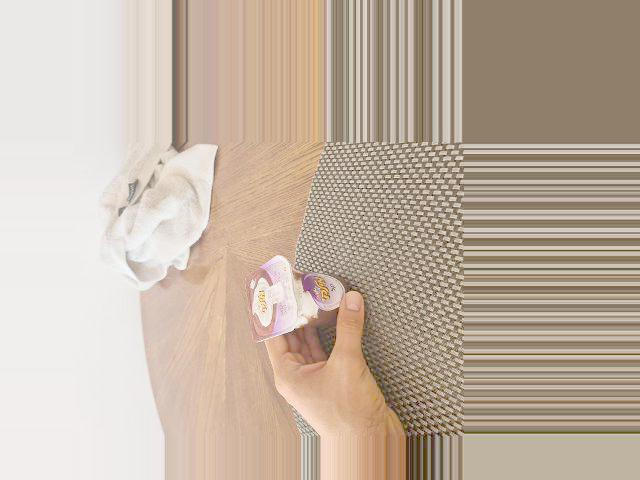milky: (245, 254, 350, 343)
